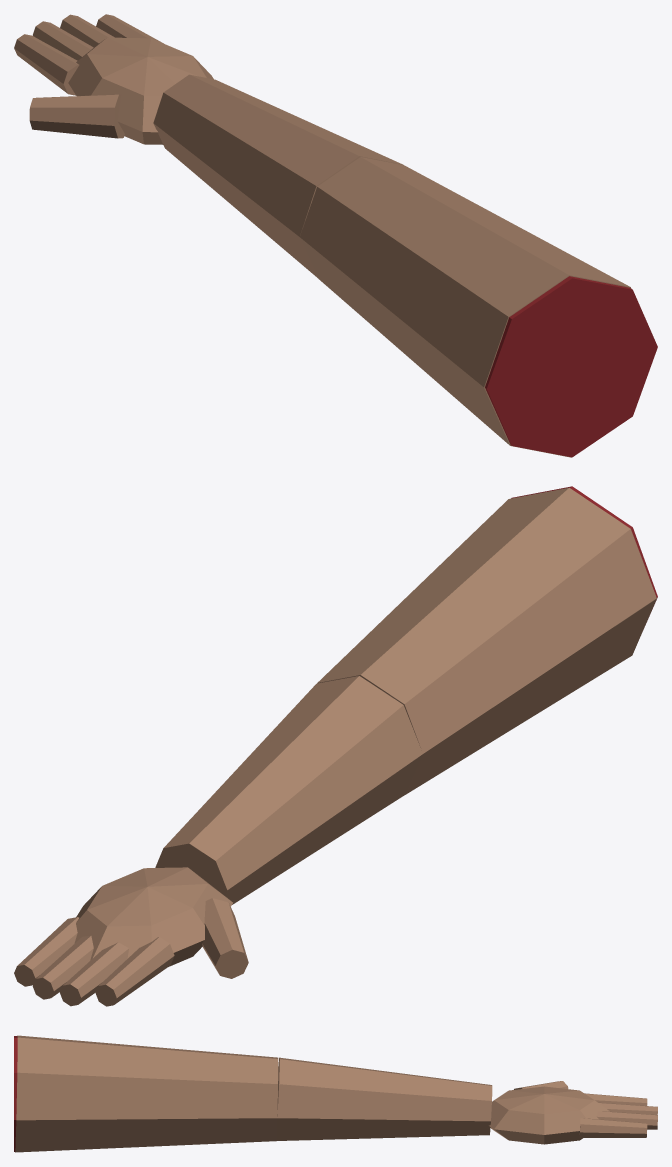
File: food.human_arm_raw.fbx
The picture shows the model from 3 angles, top to bottom: view 1: azimuth 30°, elevation 25°; view 2: azimuth 150°, elevation 25°; view 3: azimuth 270°, elevation 25°; orthographic projection. The views are drawn at different scales.
Visible parts, largest first — view 1: Human_arm; view 2: Human_arm; view 3: Human_arm.
Boxes of the visible parts, x1,y1,x2,y2 form: Human_arm: (14,14,657,457); Human_arm: (14,486,657,1006); Human_arm: (14,1035,657,1152).
Size of the model in its own units: 23.82 by 20.99 by 109.
